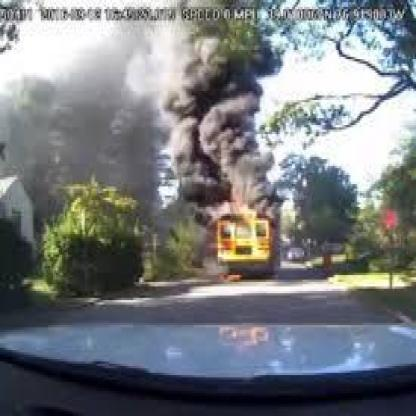smoke: (132, 27, 311, 219)
